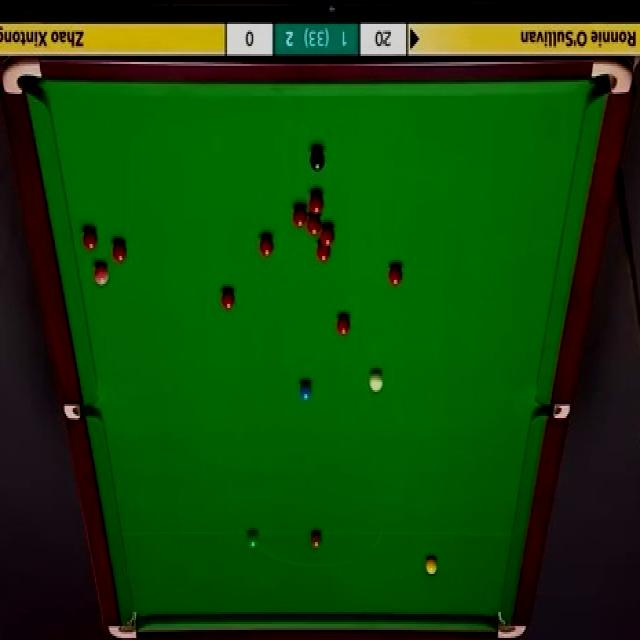black-ball: (309, 147, 326, 172)
blue-ball: (298, 382, 313, 403)
brown-ball: (310, 530, 323, 550)
green-ball: (246, 531, 258, 548)
pink-ball: (93, 262, 109, 288)
red-ball: (387, 261, 404, 288), (258, 235, 275, 259), (110, 240, 126, 264), (292, 203, 307, 228), (336, 314, 351, 336), (82, 228, 97, 250), (310, 191, 323, 214), (306, 216, 322, 234), (222, 288, 235, 310), (316, 246, 332, 263), (320, 232, 334, 248)
white-ball: (368, 372, 383, 396)
yellow-ball: (424, 554, 437, 575)
